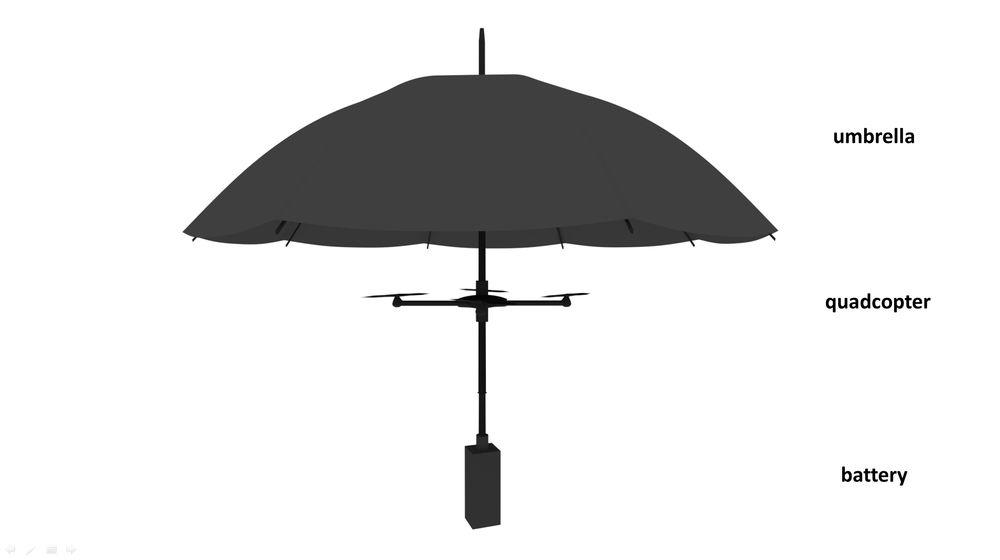drone: (370, 275, 593, 318)
